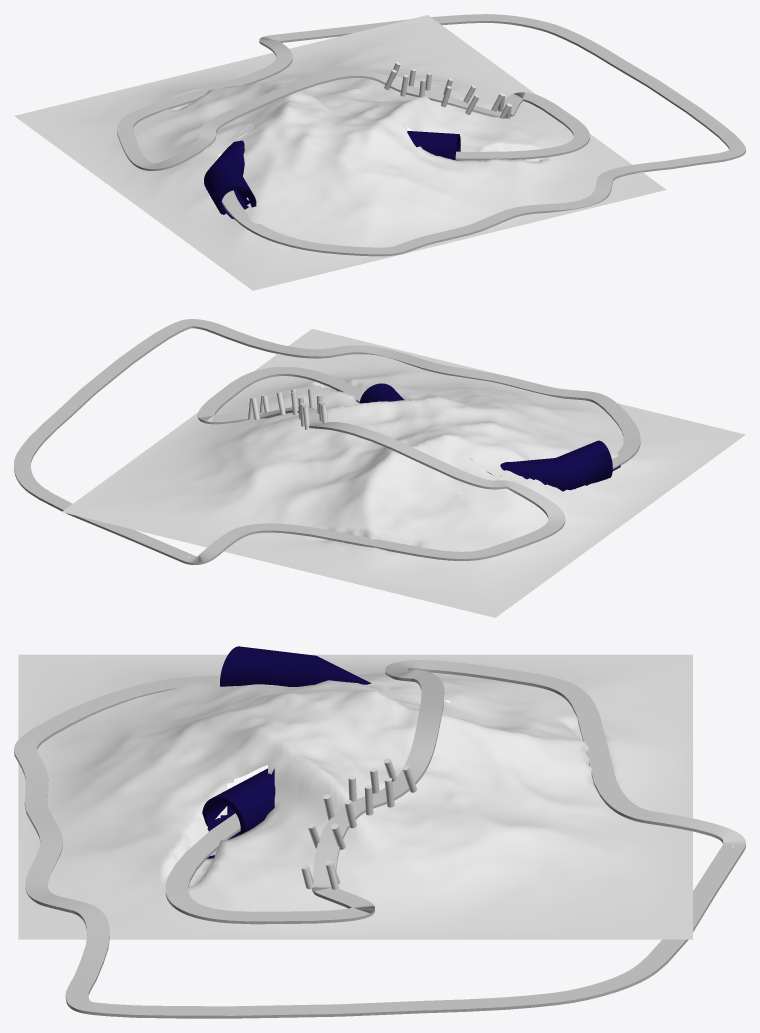
Rendered from Map.fbx.
3 renders of one model, top to bottom at view 1: azimuth 30°, elevation 25°; view 2: azimuth 150°, elevation 25°; view 3: azimuth 270°, elevation 25°, orthographic. The views are drawn at different scales.
Parts seen in each view (by area): view 1: Landscape, Road, Tunne_; view 2: Landscape, Road, Tunne_; view 3: Landscape, Road, Tunne_.
Boxes of the visible parts, x1,y1,x2,y2 form: Landscape: [14, 15, 666, 290]; Road: [117, 14, 745, 256]; Tunne_: [204, 131, 460, 214]; Landscape: [62, 329, 745, 617]; Road: [14, 319, 640, 564]; Tunne_: [359, 383, 612, 491]; Landscape: [18, 654, 692, 939]; Road: [14, 660, 745, 1018]; Tunne_: [202, 646, 370, 834].
Size of the model in its own units: 6192 by 691 by 5310.
